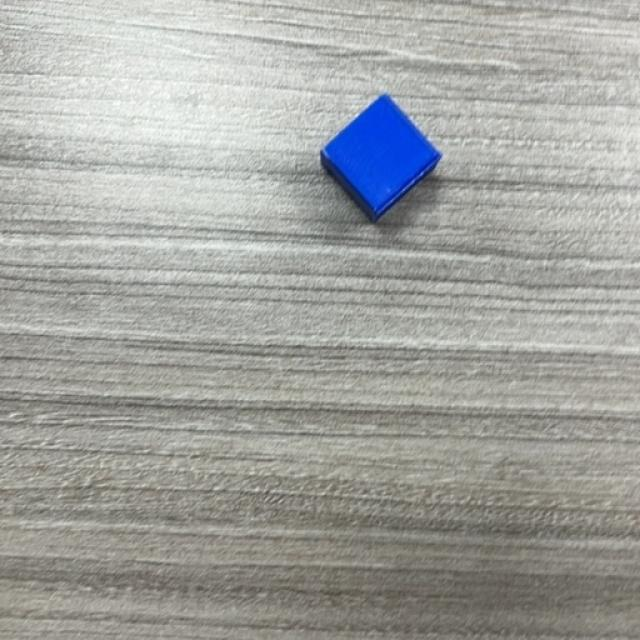Azul: (319, 95, 442, 224)
